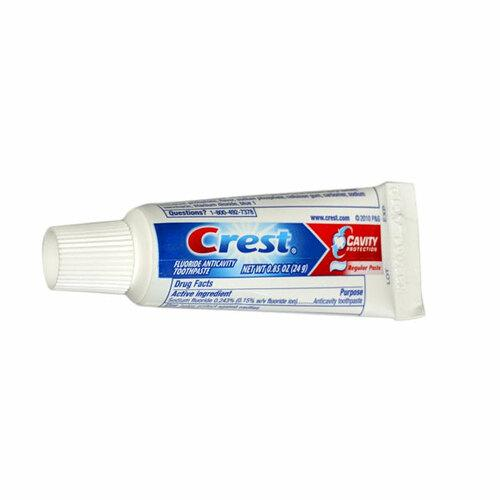toothpaste: (32, 181, 439, 334)
